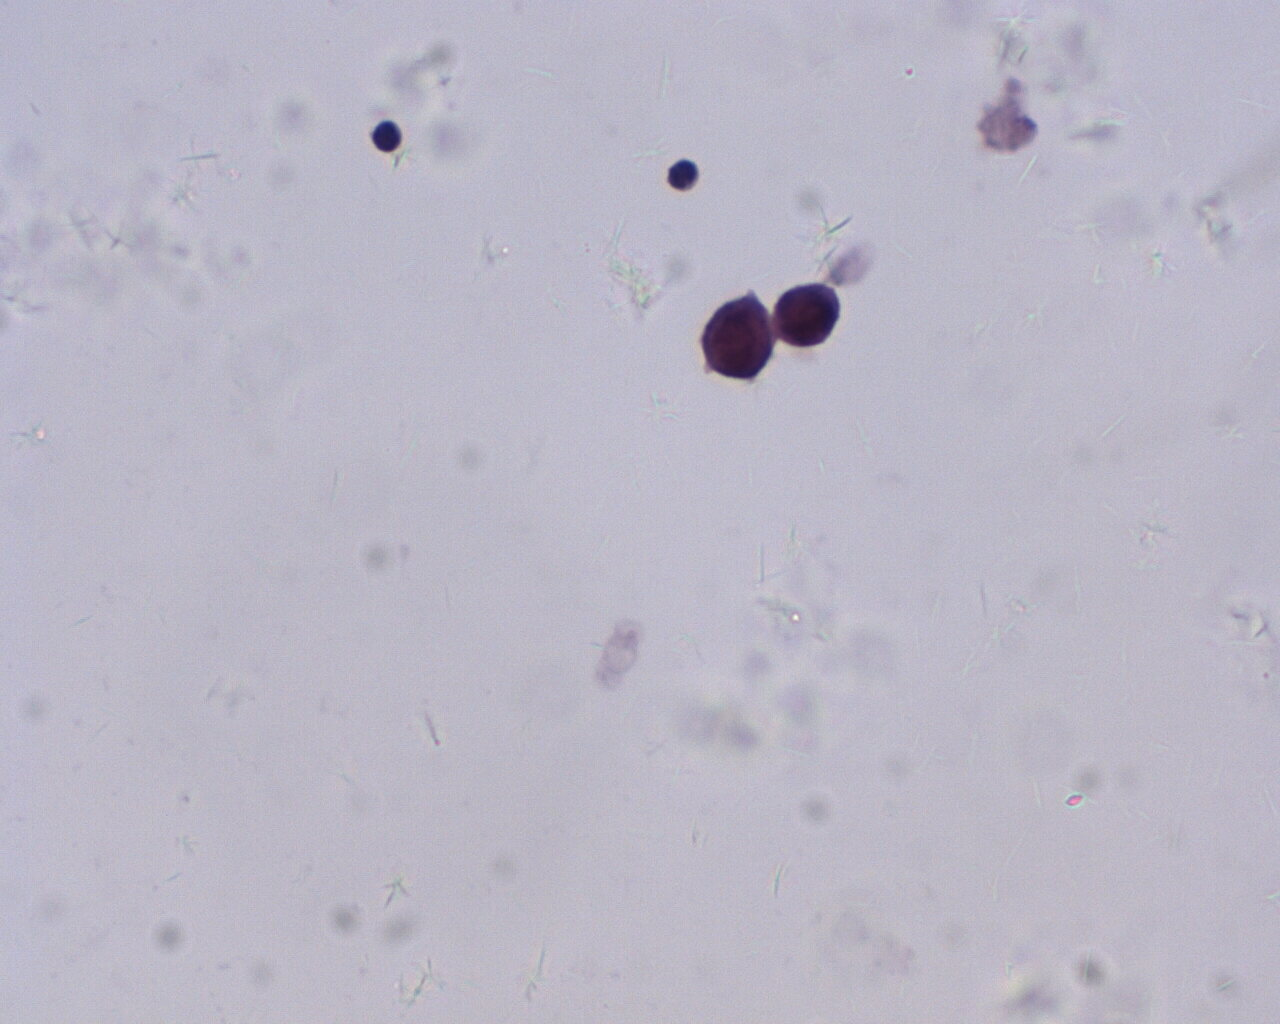ab: (698, 290, 777, 388), (768, 282, 842, 351)
lymph: (367, 116, 404, 154), (666, 153, 700, 191)
